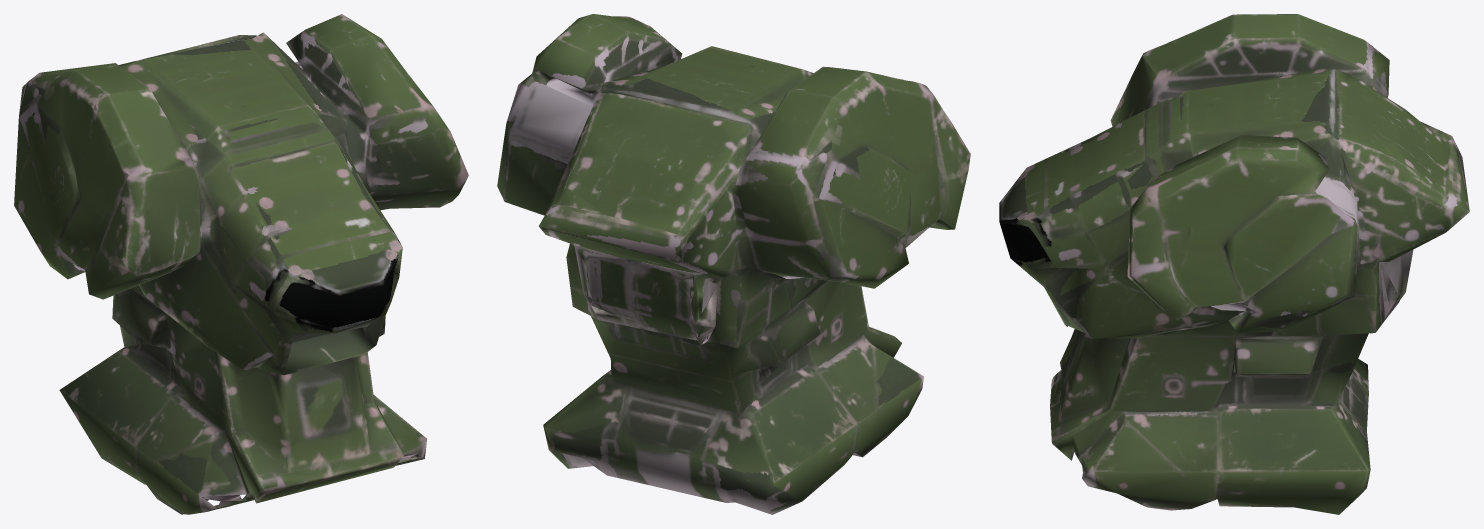
File: hull-b-1-lod1.glb
The picture shows the model from 3 angles, left to right: view 1: azimuth 30°, elevation 25°; view 2: azimuth 150°, elevation 25°; view 3: azimuth 270°, elevation 25°; orthographic projection. The views are drawn at different scales.
Parts seen in each view (by area): view 1: Part_Torso; view 2: Part_Torso; view 3: Part_Torso.
Boxes of the visible parts, x1,y1,x2,y2 form: Part_Torso: (14, 14, 468, 514); Part_Torso: (497, 14, 970, 514); Part_Torso: (999, 14, 1469, 514).
Bounding box in the file's own units: 2.3 × 2.42 × 2.63.
1 material, 1 textured.
